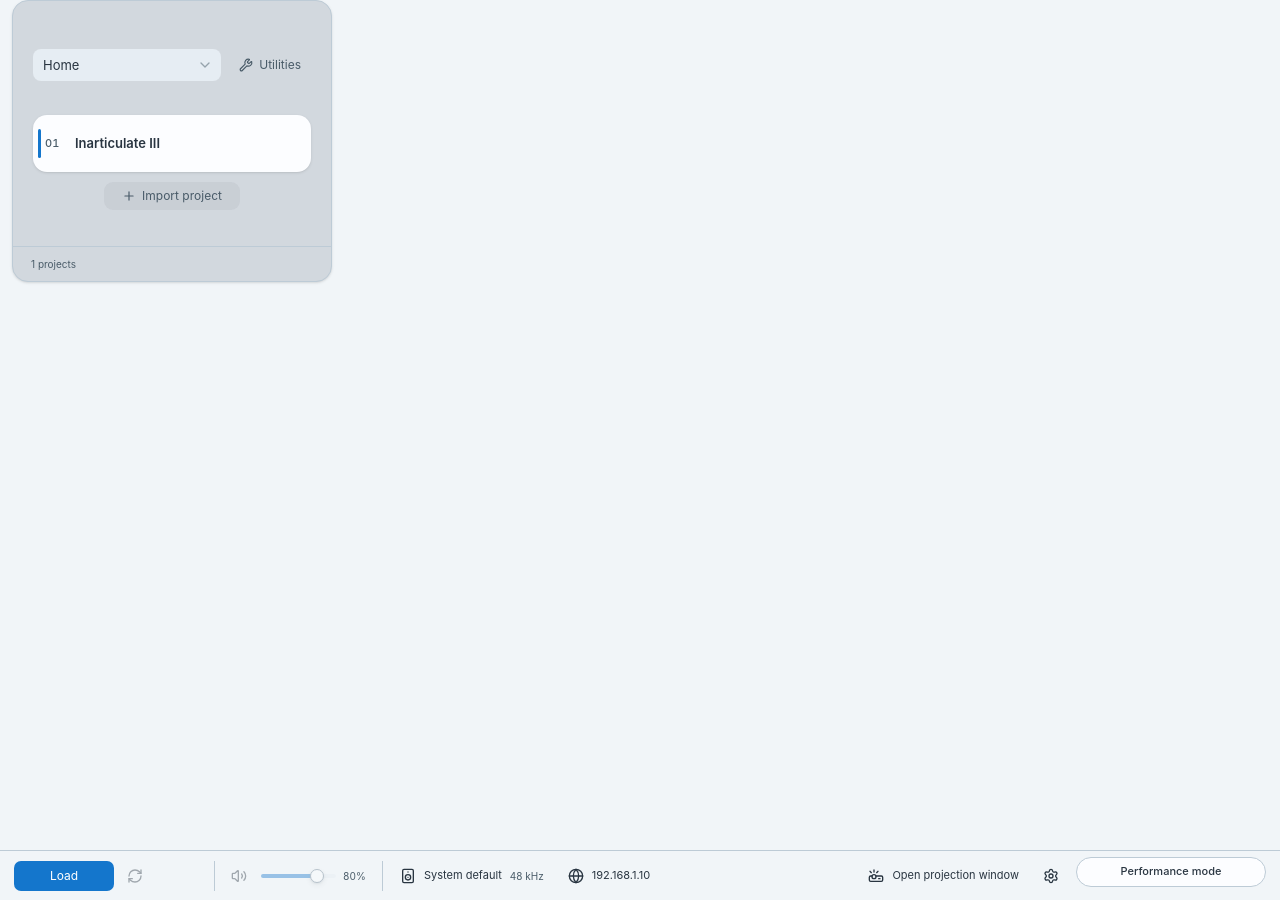
Test: Sidebar › shows OSC input only for external mode (§6.6)
(page scrolled)
Click the button named "Local network" at (609, 876), box [561,860,657,890]
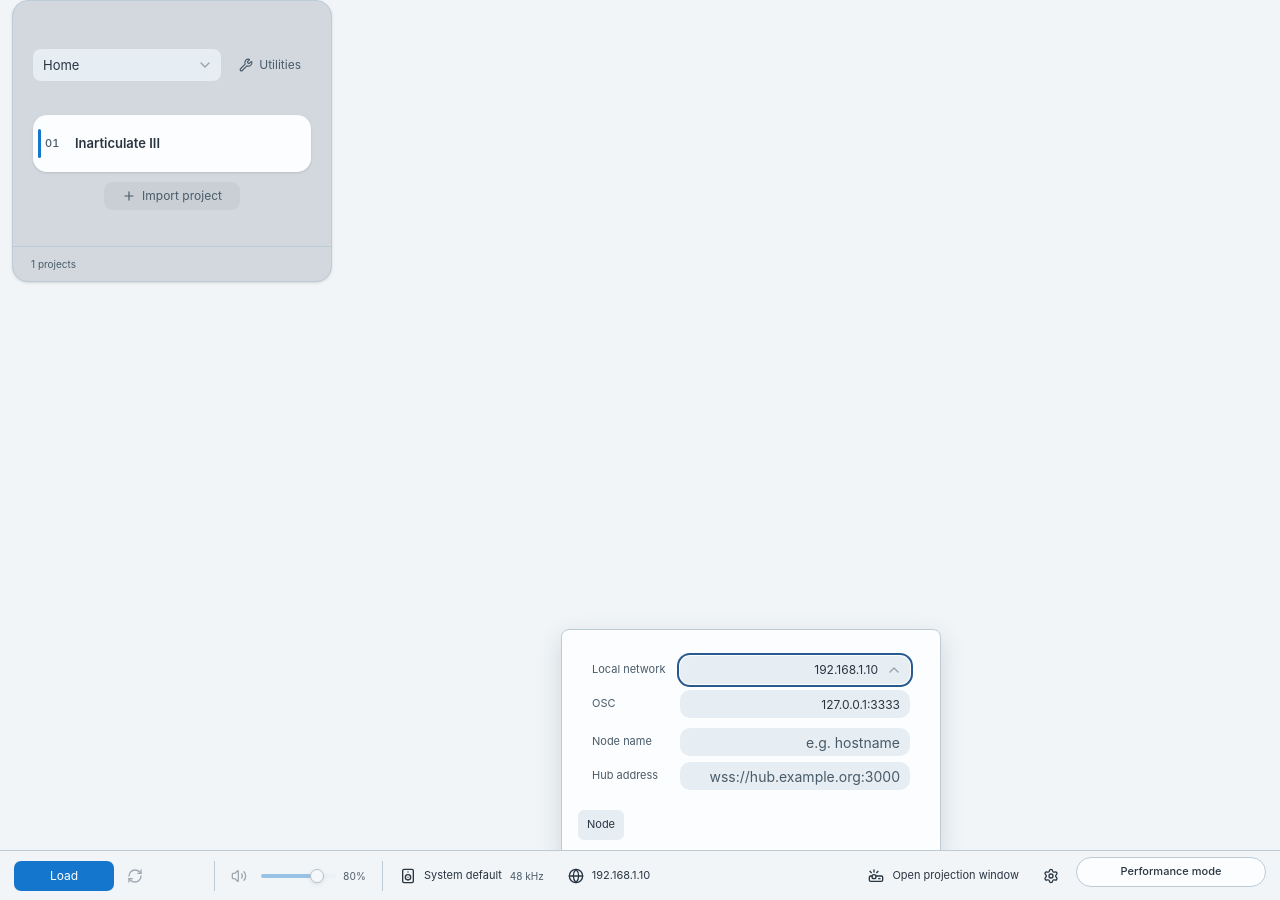
Now the field named "osc target" is shown, box [680,690,910,718]
